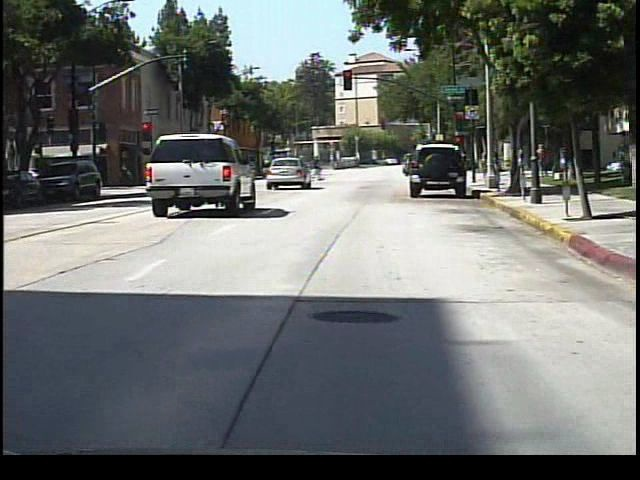person: (536, 142, 554, 184), (462, 153, 478, 183), (314, 155, 326, 185)
